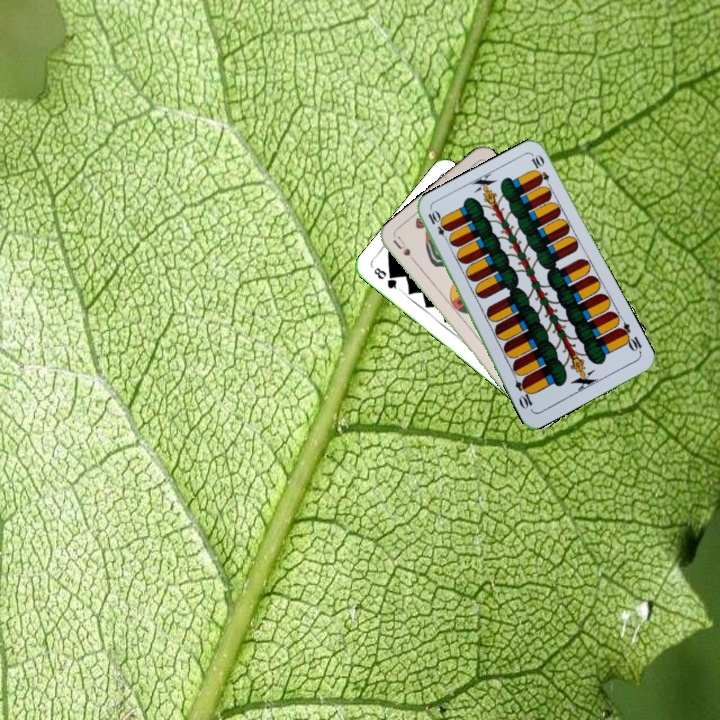E10: (614, 318, 644, 356), (424, 207, 452, 245)
G8: (370, 263, 403, 293)
SU: (389, 233, 421, 269)
